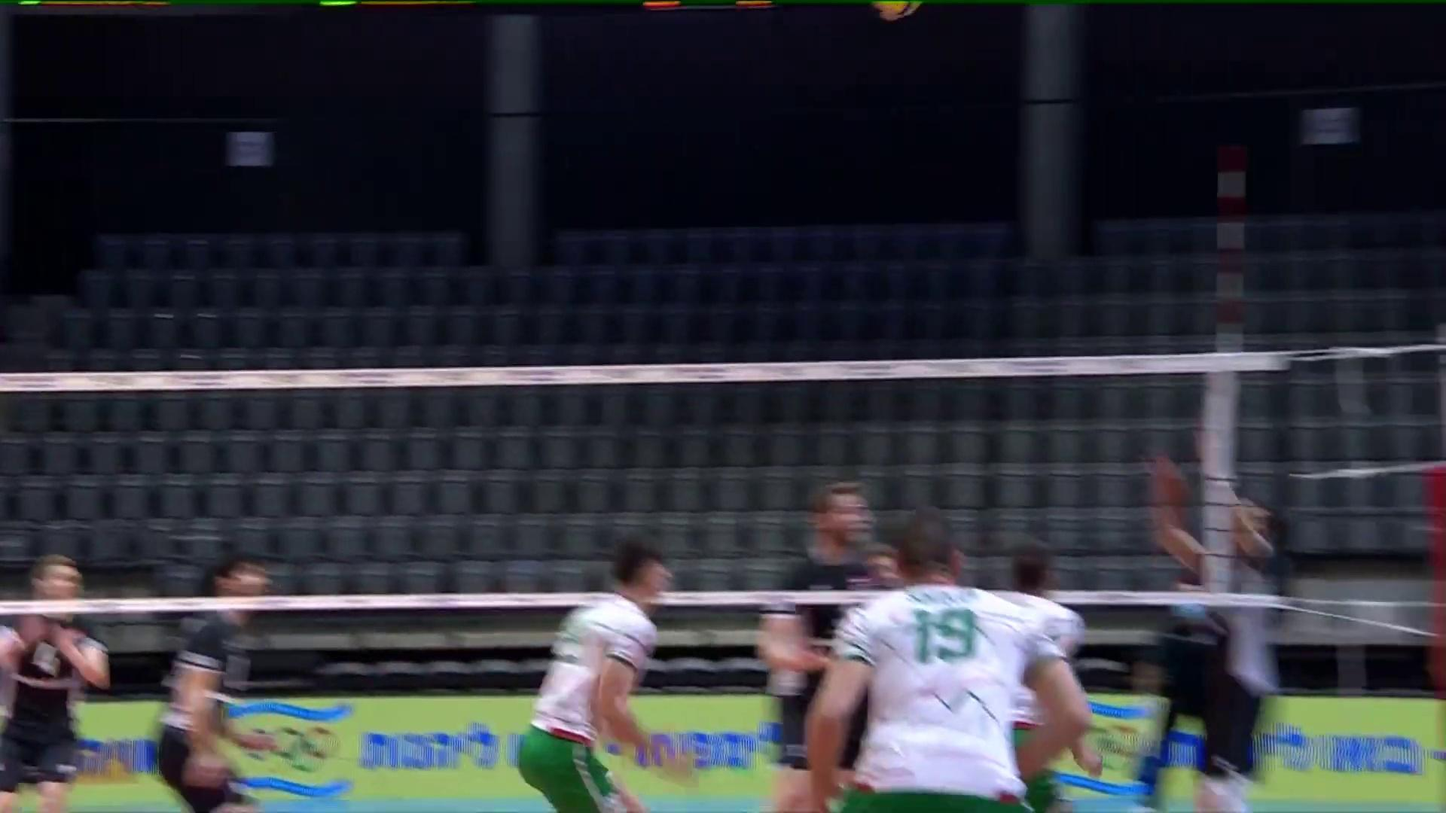ball: (872, 0, 920, 19)
